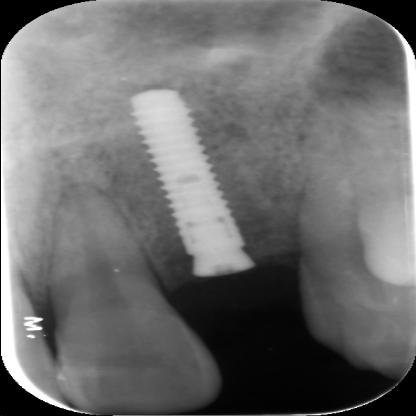ITI: (122, 88, 248, 257)
